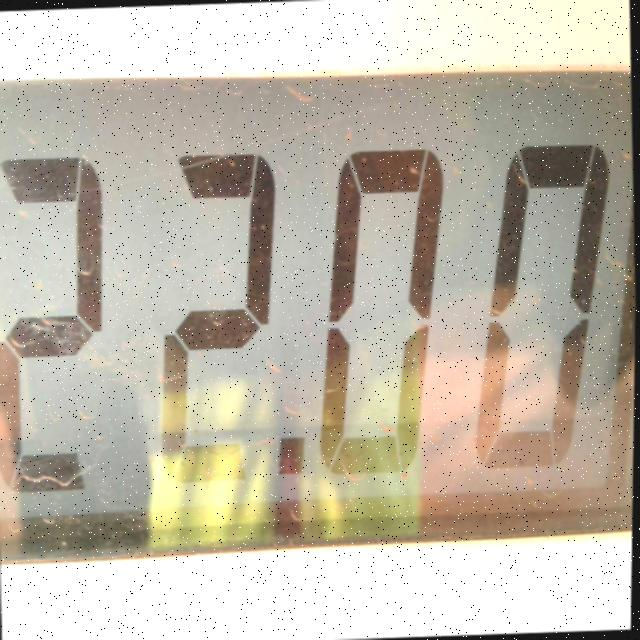.: (281, 436, 304, 474)
0: (468, 144, 618, 468), (313, 148, 453, 476)
2: (155, 140, 277, 487), (0, 156, 111, 504)
